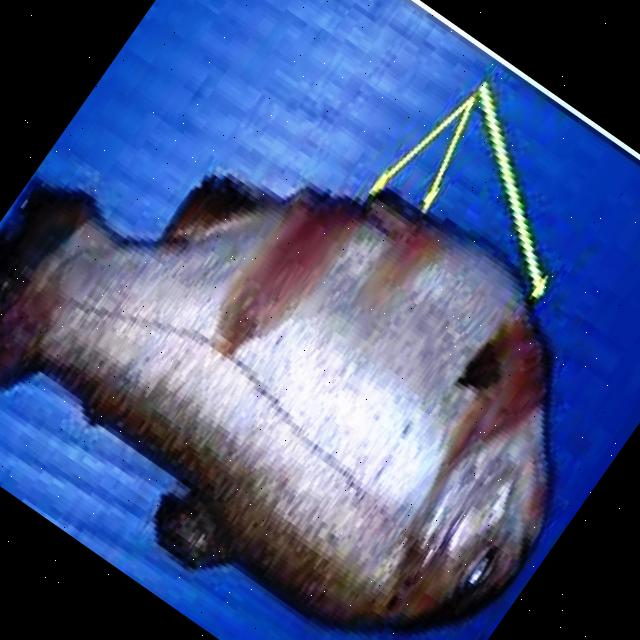Epizootic Ulcerative Syndrome -EUS-: (0, 177, 550, 633)
